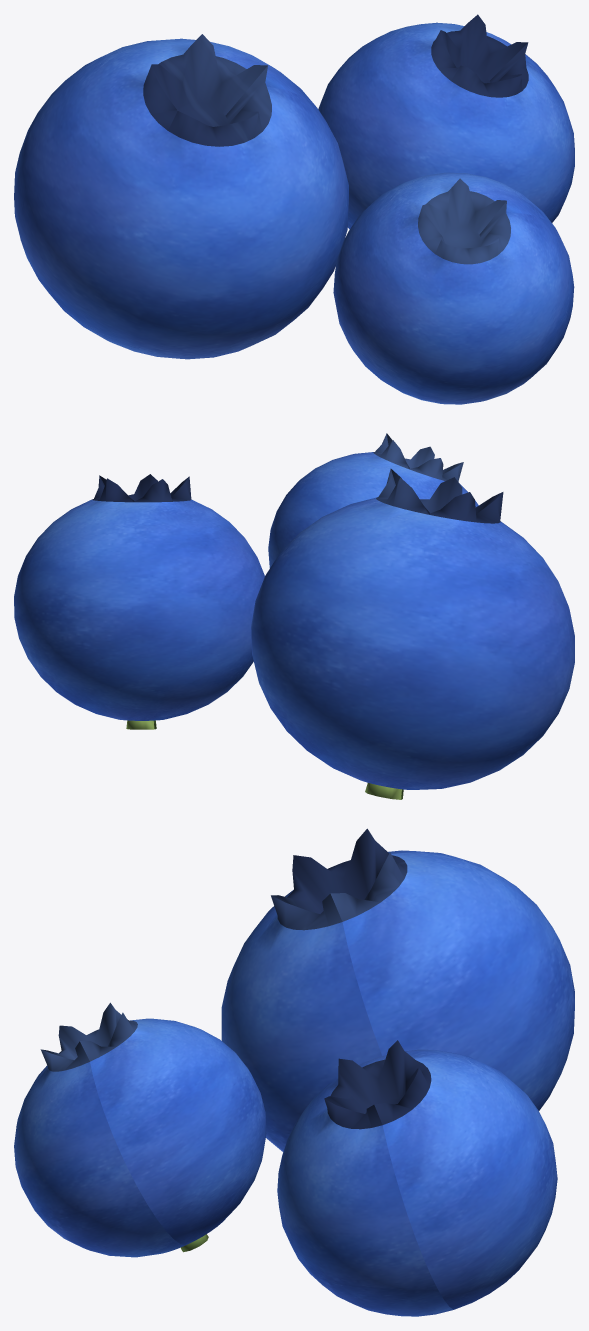
Rendered from NP_Blueberry_Harvest.fbx.
3 views of the same model, one above another, from view 1: azimuth 30°, elevation 25°; view 2: azimuth 150°, elevation 25°; view 3: azimuth 270°, elevation 25° (orthographic). The views are drawn at different scales.
Visible parts, largest first — view 1: NP_Blueberry_Harvest; view 2: NP_Blueberry_Harvest; view 3: NP_Blueberry_Harvest.
Boxes of the visible parts, x1,y1,x2,y2 form: NP_Blueberry_Harvest: (14, 14, 574, 404); NP_Blueberry_Harvest: (14, 433, 574, 799); NP_Blueberry_Harvest: (14, 828, 574, 1316).
Bounding box in the file's own units: 50.88 × 28.08 × 43.53.
